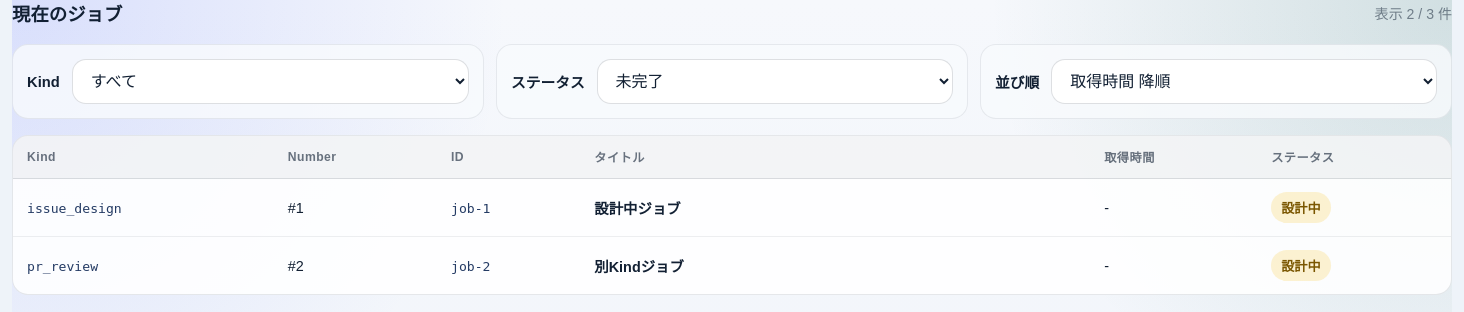
Test: JobListPanel › filters jobs by kind and status independently
The image size is (1464, 312).
Step 1. Select "Issue 設計" in the dropdown named "Kindフィルター" → (270, 82), box [72, 59, 469, 104]
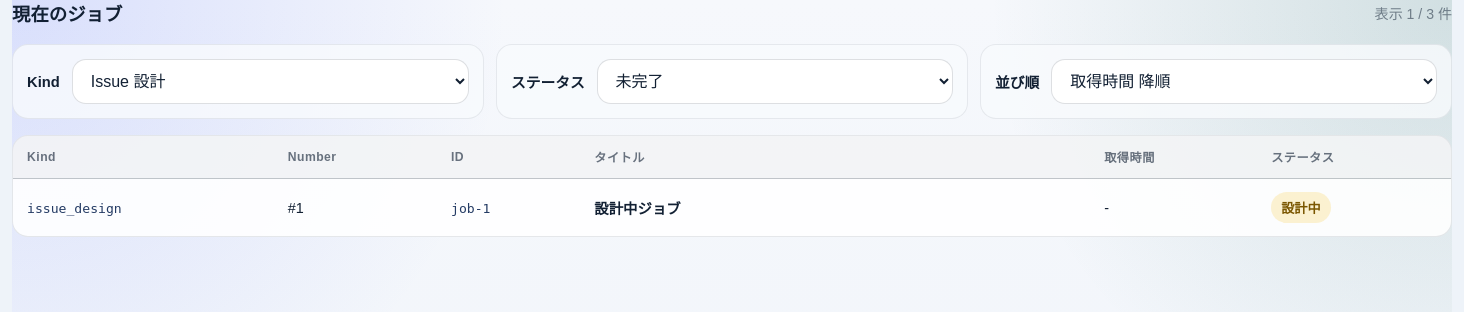
Expected: the text "設計中ジョブ" is shown, [580, 178, 1090, 236]
Expected: the text "別Kindジョブ" is gone
Step 2. Select "完了" in the dropdown named "ステータスフィルター" → (775, 82), box [597, 59, 953, 104]
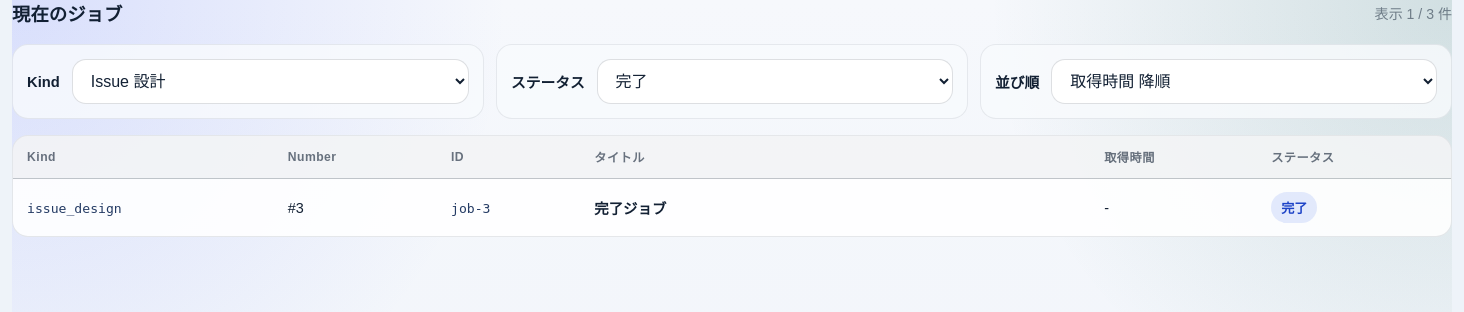
Expected: the text "完了ジョブ" is shown, [580, 178, 1090, 236]
